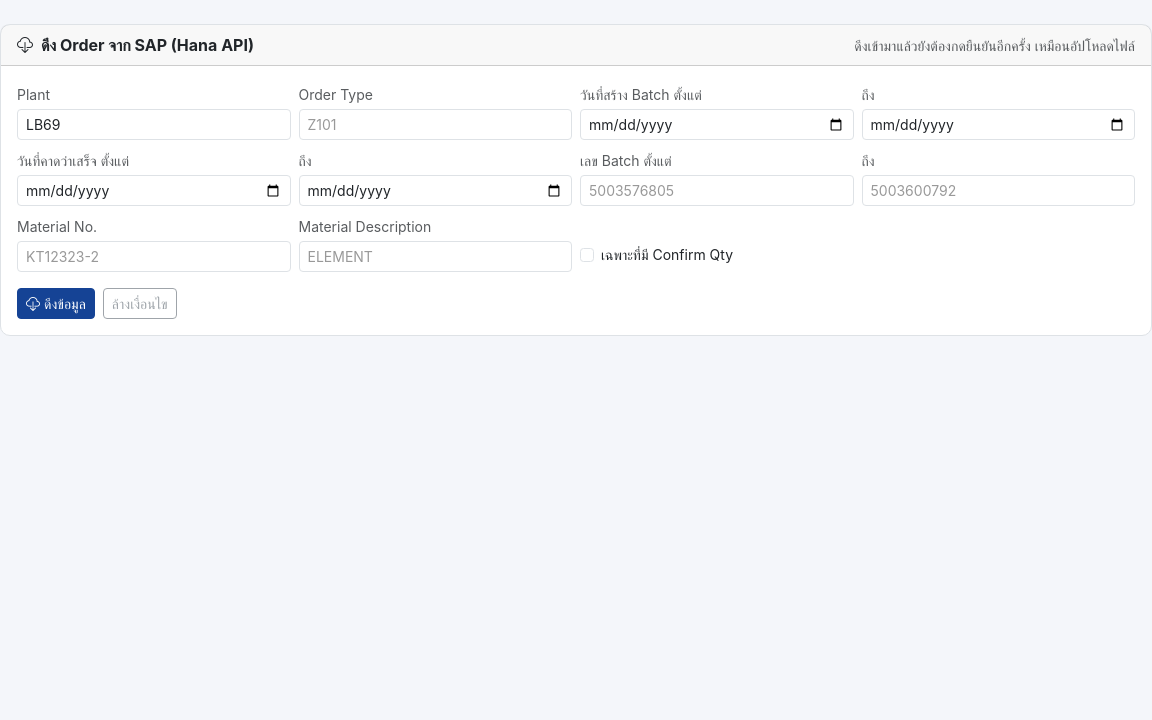
Test: เลือกทั้งหมด = order เดิมที่ติ๊กได้ทุกใบ
Click the button "ดึงข้อมูล" at (56, 304), box [17,288,95,319]
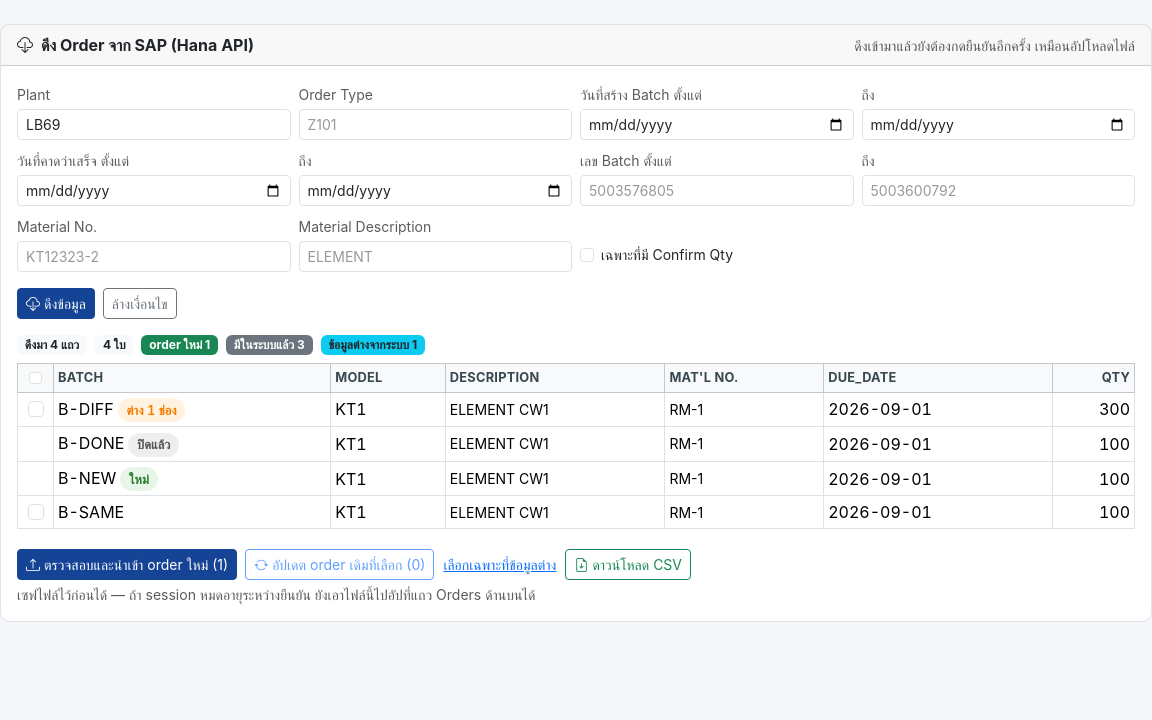
Click the checkbox named "เลือก order เดิมทั้งหมด" at (36, 378), box [29,372,42,384]
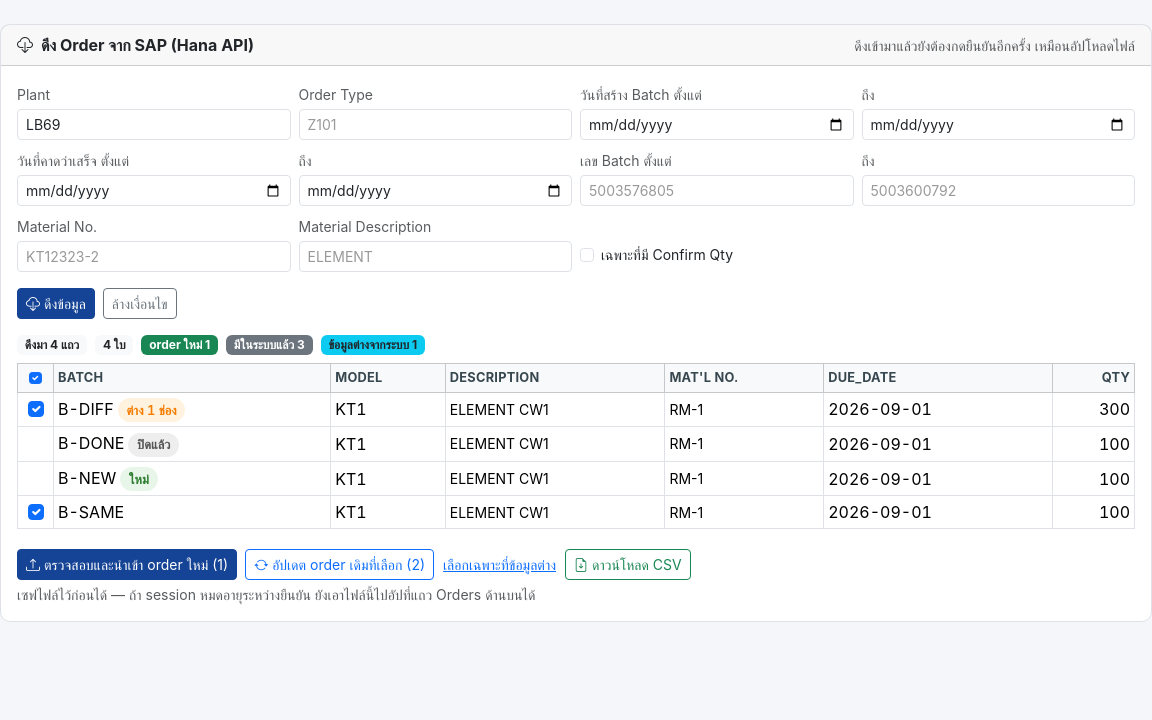
Expected: the button "อัปเดต order เดิมที่เลือก (2)" is enabled, [245,549,434,580]
